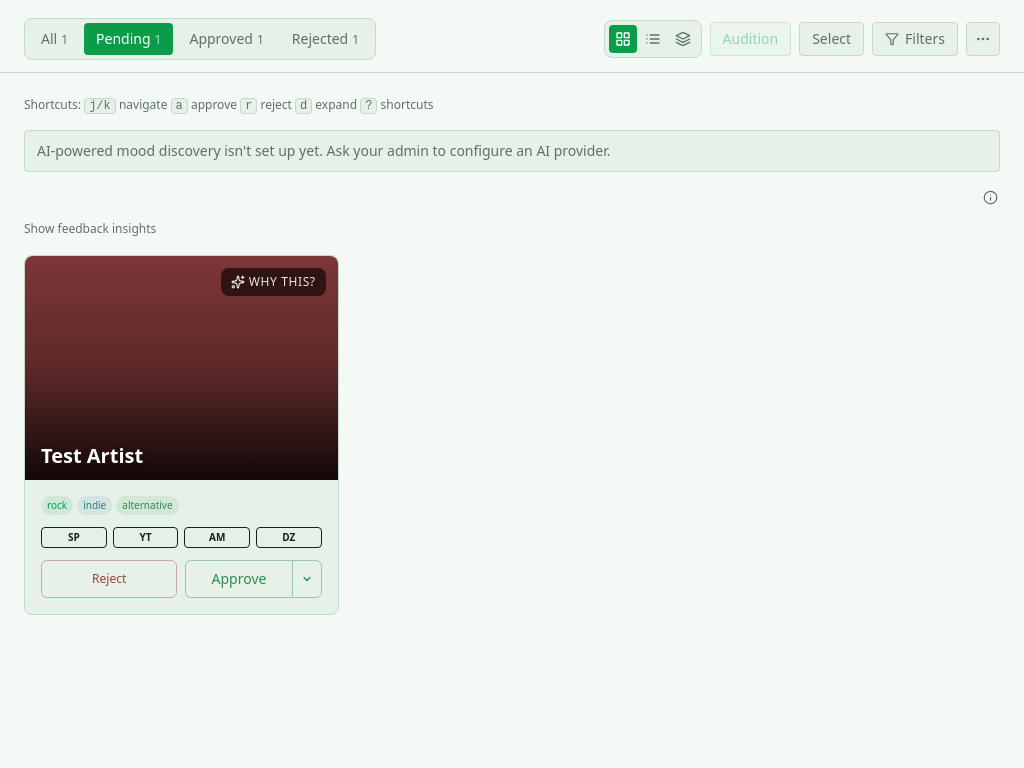
DiscoverPage › shows shared metadata refresh to cookie-authenticated admins
What coordinates should you click on to do the following:
click the button named "More actions"
I would click on:
 (983, 39)
Its box is [966,22,1000,56].
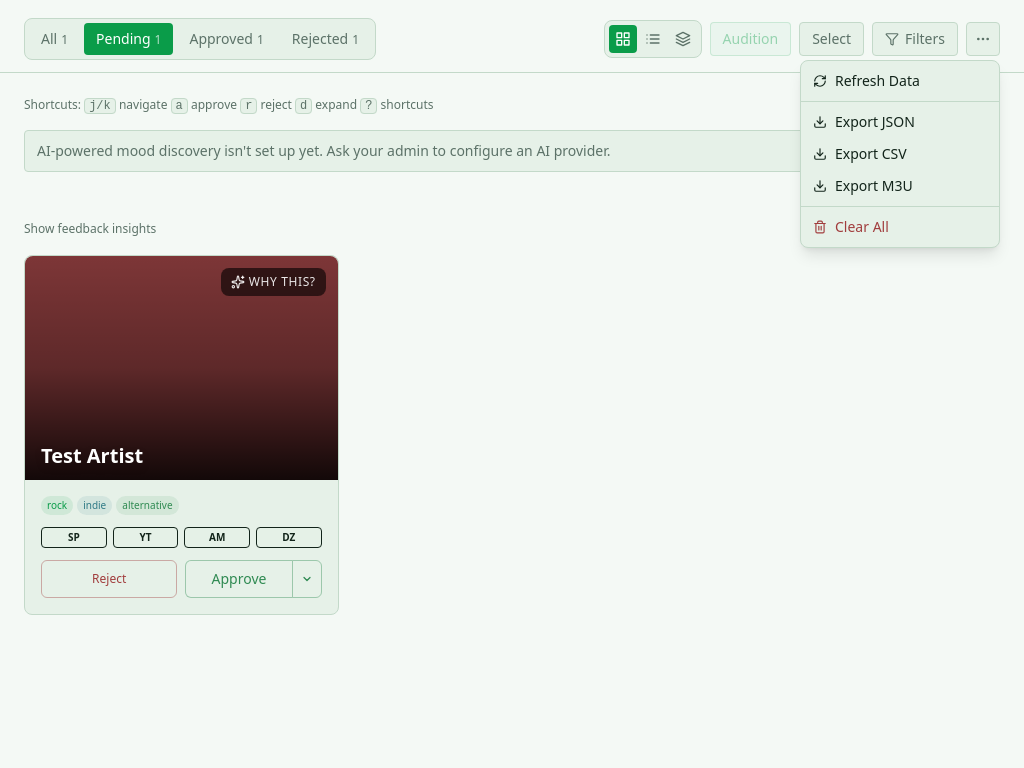
Check: the menu item "Refresh Data" is shown, box [801,65,999,97]
